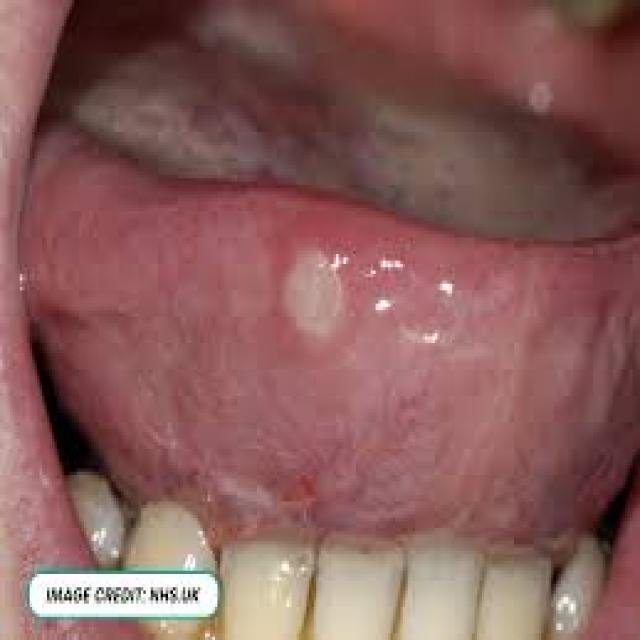processing_area: (10, 105, 638, 547)
ulcer-detection: (259, 205, 382, 378)
